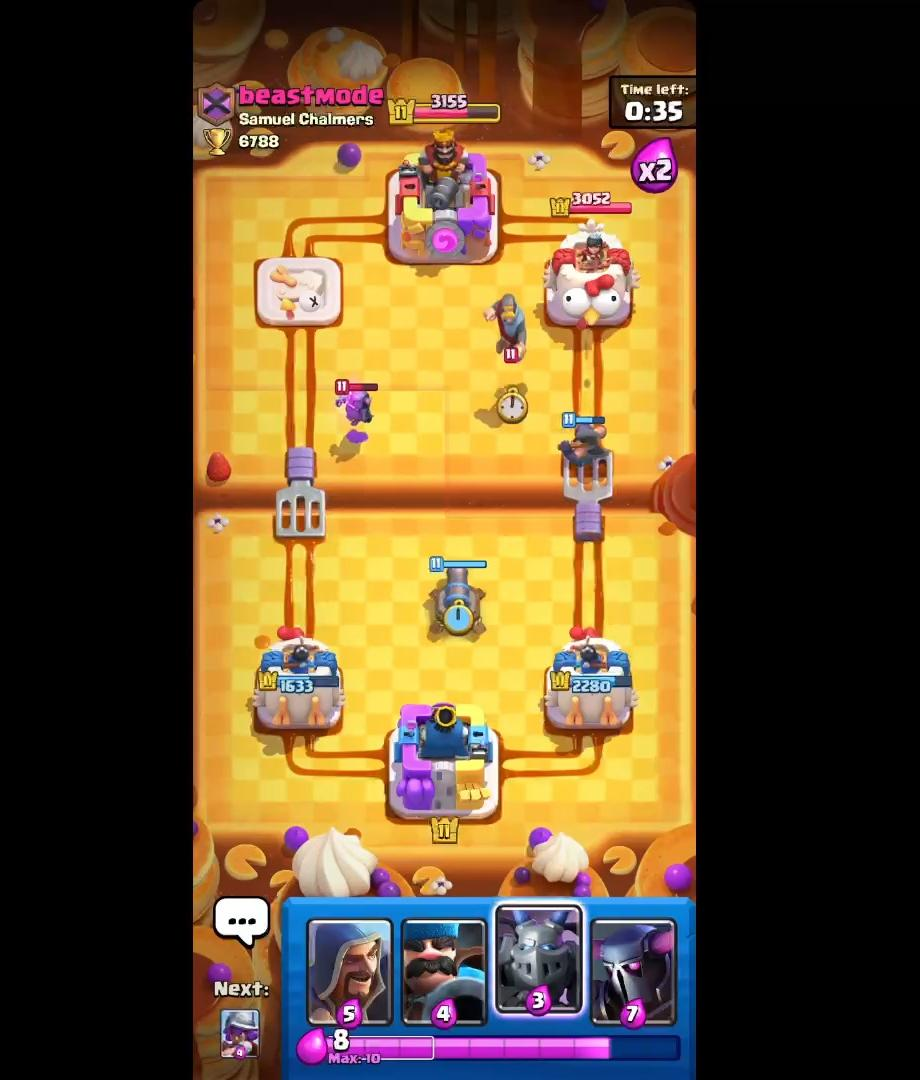Knight: (479, 289, 541, 366)
Mini Pekka: (329, 372, 378, 434)
